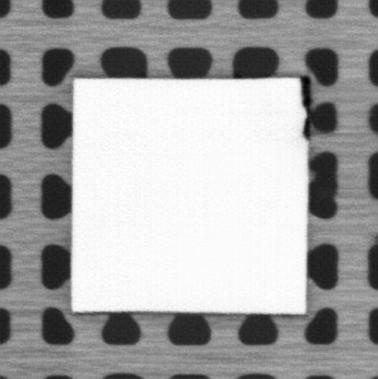DIE_BROKEN: (298, 74, 311, 141)
